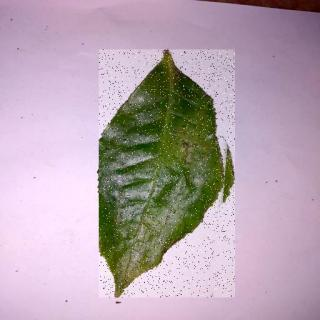Bird Eye Spot: (100, 51, 236, 299)
